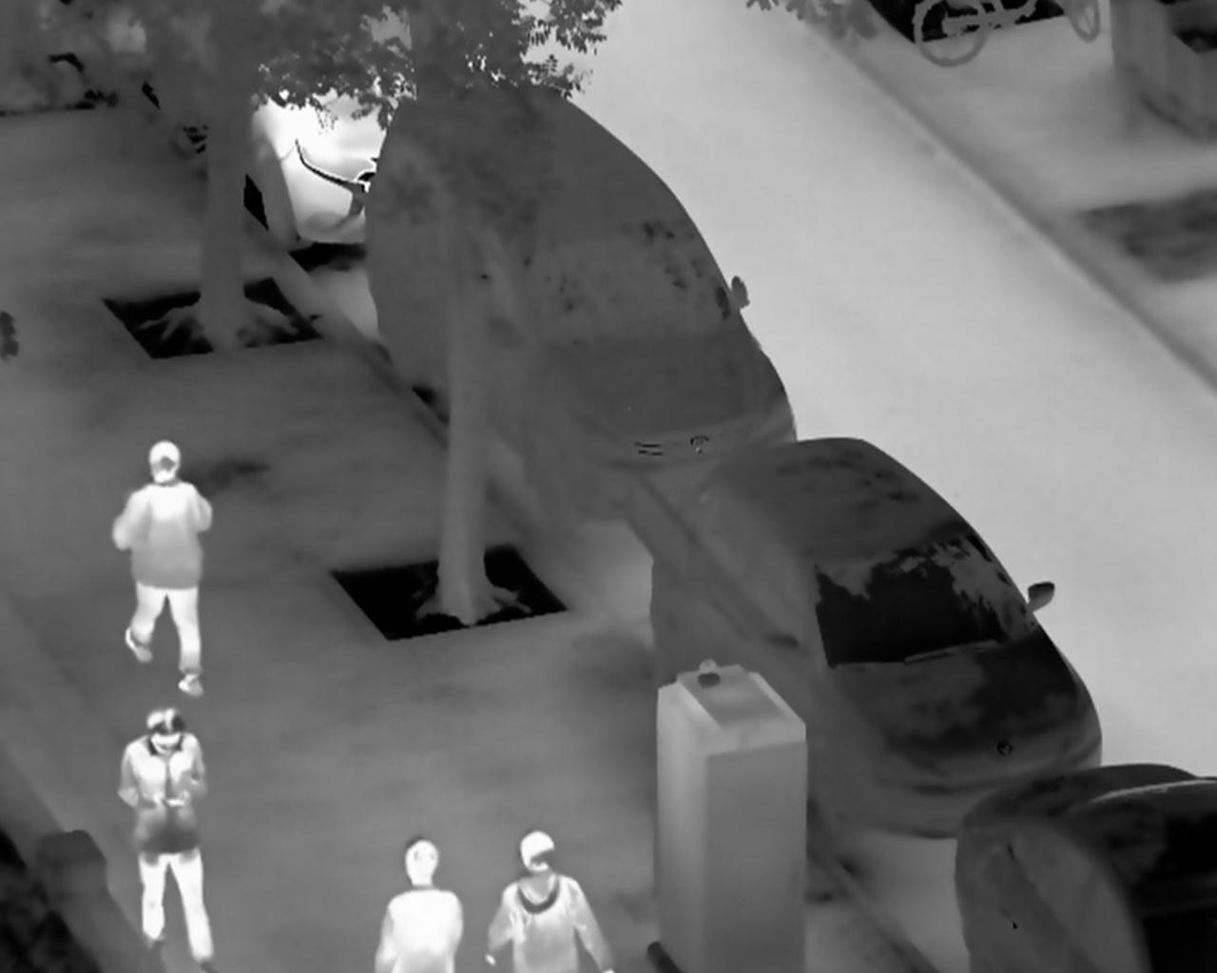person: (115, 708, 218, 971), (110, 438, 213, 699), (482, 829, 617, 973), (372, 836, 463, 973)
